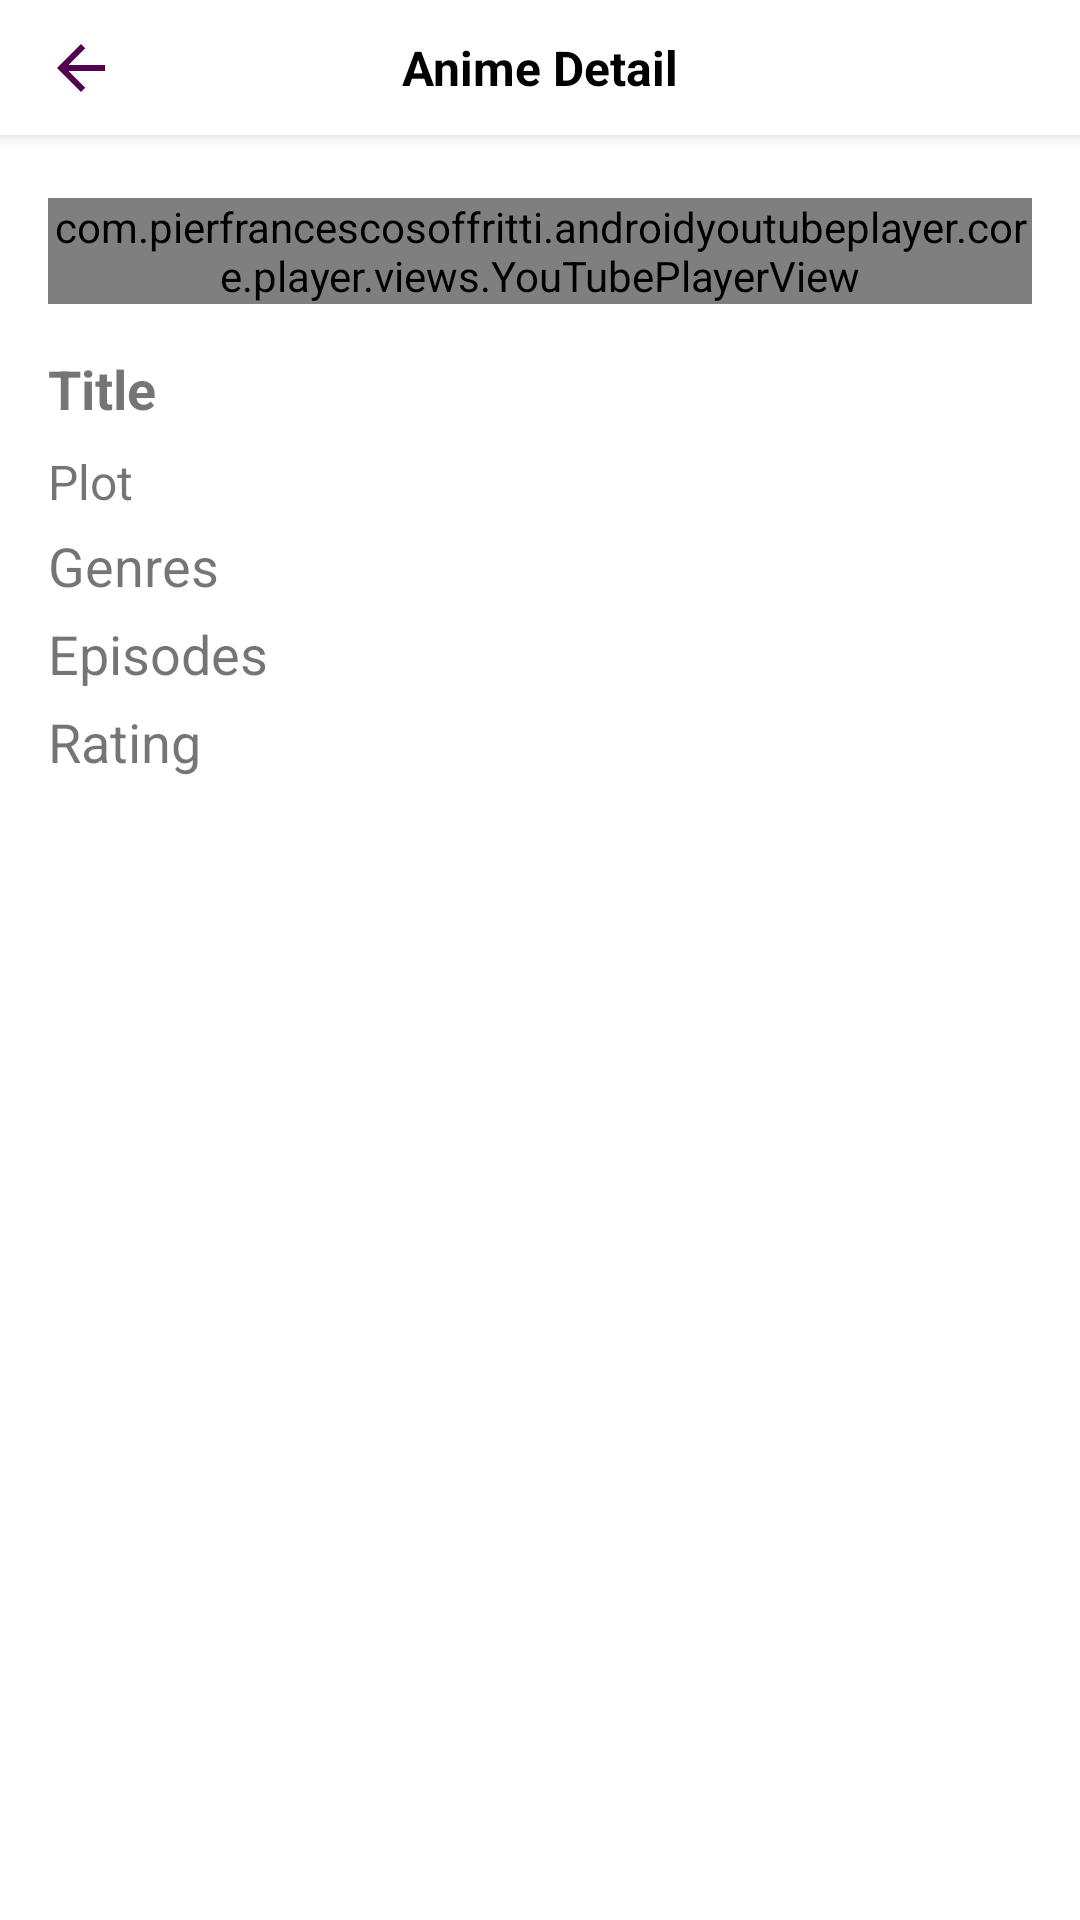

Named icons in this screenshot (1080*1920) and their centers, [x,y]:
back: [81,68]
